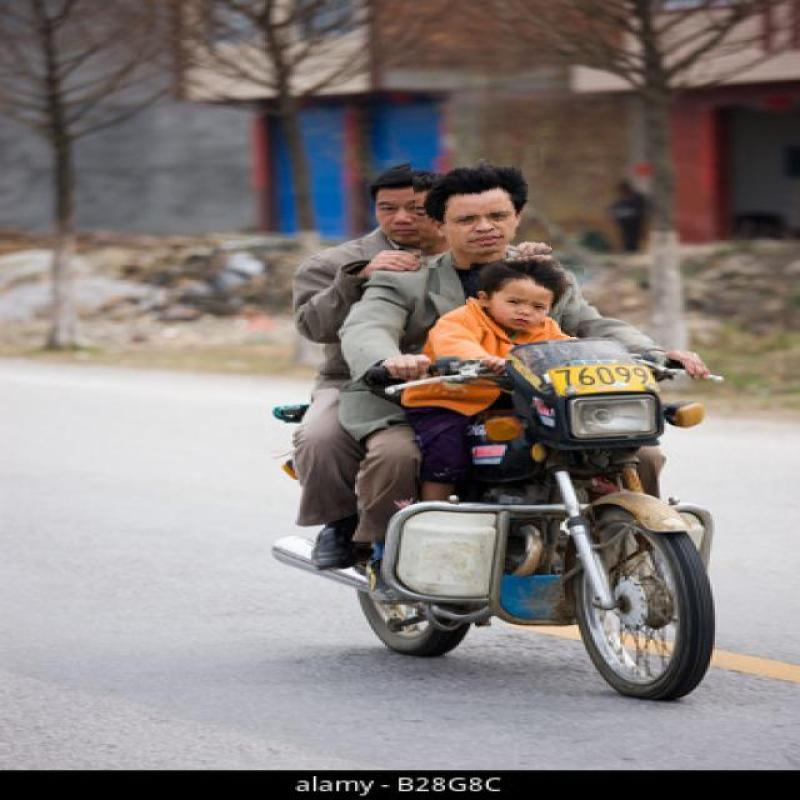nohelmet: (413, 148, 549, 266), (466, 259, 583, 335)
